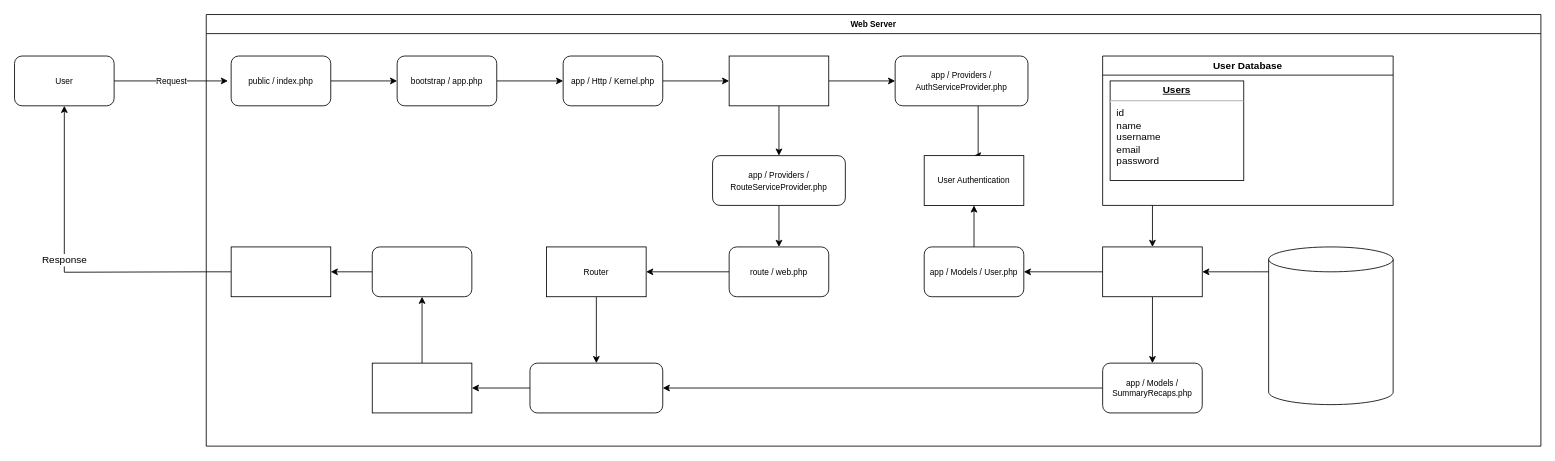
This 1555x461 diagram has some shape labels left out. Here are the shapes that lost their labels. From the top down, the centre of each, then its label:
At pixel 778 80: "Service Providers".
At pixel 280 271: "View".
At pixel 421 271: "resources / views".
At pixel 1152 271: "Models".
At pixel 1330 325: "Summary Database".
At pixel 421 387: "Controllers".
At pixel 596 387: "app / Http / Controllers".
